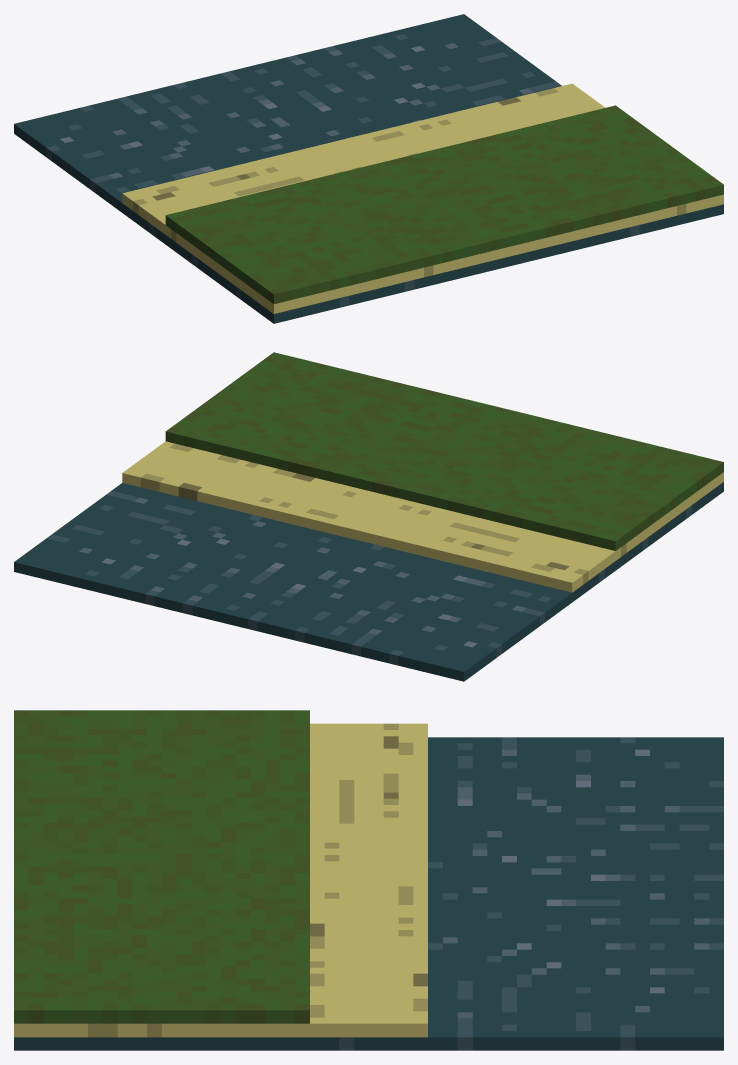
The model's file is tile-2-shore.obj.
The picture shows the model from 3 angles, top to bottom: view 1: azimuth 30°, elevation 25°; view 2: azimuth 150°, elevation 25°; view 3: azimuth 270°, elevation 25°; orthographic projection. The views are drawn at different scales.
Parts seen in each view (by area): view 1: shore; view 2: shore; view 3: shore.
Boxes of the visible parts, x1=… form: shore: x1=14, y1=14, x2=723, y2=323; shore: x1=14, y1=352, x2=723, y2=681; shore: x1=14, y1=710, x2=723, y2=1050.
Size of the model in its own units: 4.8 by 0.3 by 4.8.
1 material, 1 textured.
